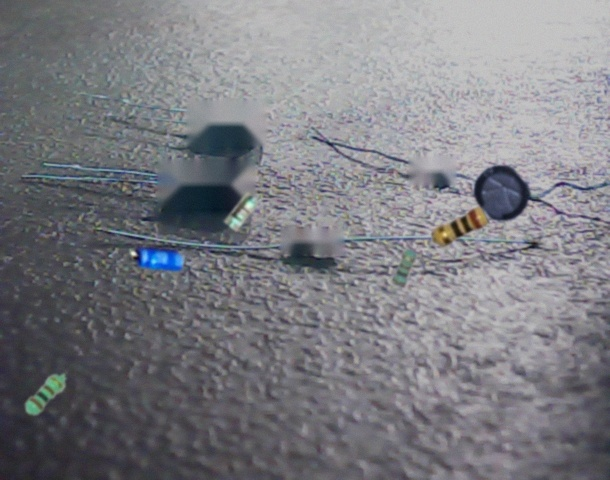capacitor: (473, 165, 531, 221), (130, 245, 184, 272)
resistor: (431, 206, 489, 248), (25, 374, 67, 415), (224, 192, 259, 231), (391, 249, 418, 286)
